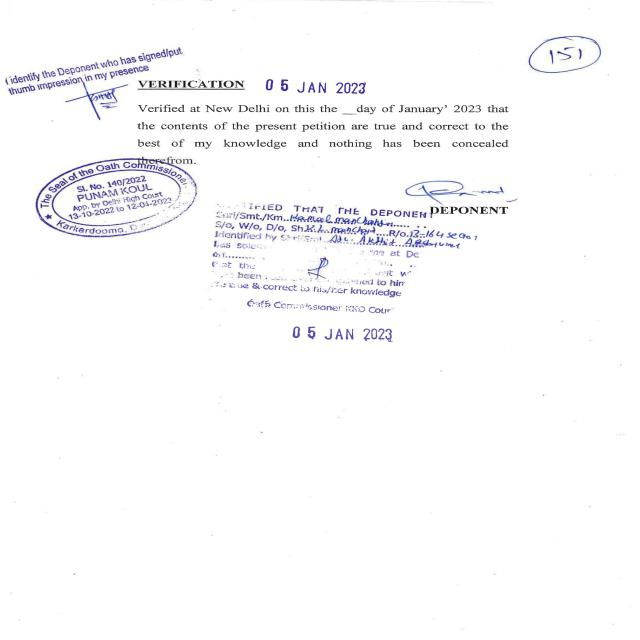page-number: (509, 0, 640, 101)
